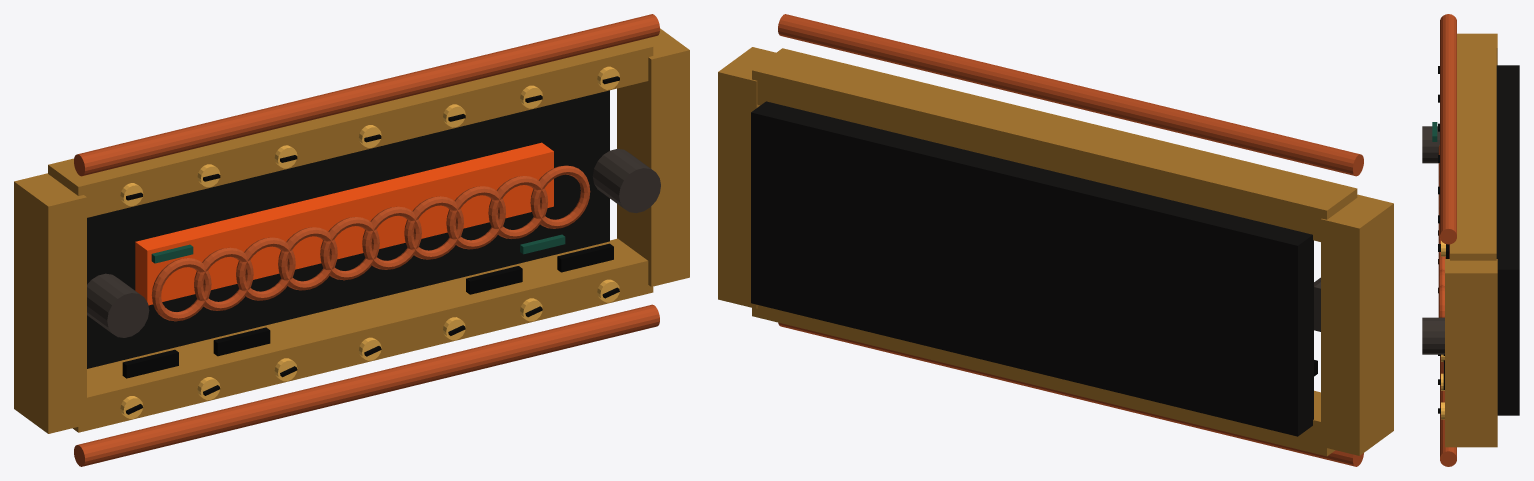
Rendered from WPB_001_CoilPackRefinement_Staged.obj.
The picture shows the model from 3 angles, left to right: view 1: azimuth 30°, elevation 25°; view 2: azimuth 150°, elevation 25°; view 3: azimuth 270°, elevation 25°; orthographic projection. The views are drawn at different scales.
Parts seen in each view (by area): view 1: coil_iron_backing_plate, coil_lower_brass_rail, coil_upper_brass_rail, coil_heat_core_window, coil_left_brass_cheek, coil_lower_return_pipe, coil_upper_feed_pipe, coil_right_brass_cheek, coil_right_pressure_socket, coil_left_pressure_socket, coil_copper_loop_10, coil_copper_loop_01 (+12 smaller); view 2: coil_iron_backing_plate, coil_upper_brass_rail, coil_left_brass_cheek, coil_upper_feed_pipe, coil_right_brass_cheek, coil_lower_brass_rail, coil_lower_return_pipe; view 3: coil_right_brass_cheek, coil_upper_brass_rail, coil_iron_backing_plate, coil_upper_feed_pipe, coil_right_pressure_socket, coil_lower_return_pipe, coil_left_pressure_socket, coil_left_brass_cheek, coil_copper_loop_10.
Boxes of the visible parts, x1,y1,x2,y2 form: coil_iron_backing_plate: (87,90,609,368); coil_lower_brass_rail: (73,238,653,432); coil_upper_brass_rail: (48,39,653,217); coil_heat_core_window: (135,142,553,305); coil_left_brass_cheek: (14,173,86,433); coil_lower_return_pipe: (74,304,659,466); coil_upper_feed_pipe: (74,14,659,176); coil_right_brass_cheek: (617,28,689,286); coil_right_pressure_socket: (592,149,660,213); coil_left_pressure_socket: (87,273,149,337); coil_copper_loop_10: (530,165,590,228); coil_copper_loop_01: (151,258,211,321); coil_iron_backing_plate: (751,101,1313,436); coil_upper_brass_rail: (752,48,1357,241); coil_left_brass_cheek: (1321,194,1393,455); coil_upper_feed_pipe: (778,14,1363,176); coil_right_brass_cheek: (718,47,775,308); coil_lower_brass_rail: (752,305,1335,456); coil_lower_return_pipe: (778,322,1363,466); coil_right_brass_cheek: (1445,259,1497,447); coil_upper_brass_rail: (1450,39,1496,260); coil_iron_backing_plate: (1496,65,1519,415); coil_upper_feed_pipe: (1440,14,1456,244); coil_right_pressure_socket: (1422,317,1444,354); coil_lower_return_pipe: (1440,244,1456,466); coil_left_pressure_socket: (1422,126,1439,163); coil_left_brass_cheek: (1457,33,1497,65); coil_copper_loop_10: (1438,285,1444,317).
Bounding box in the file's own units: 0.915 × 0.424 × 0.1575.
